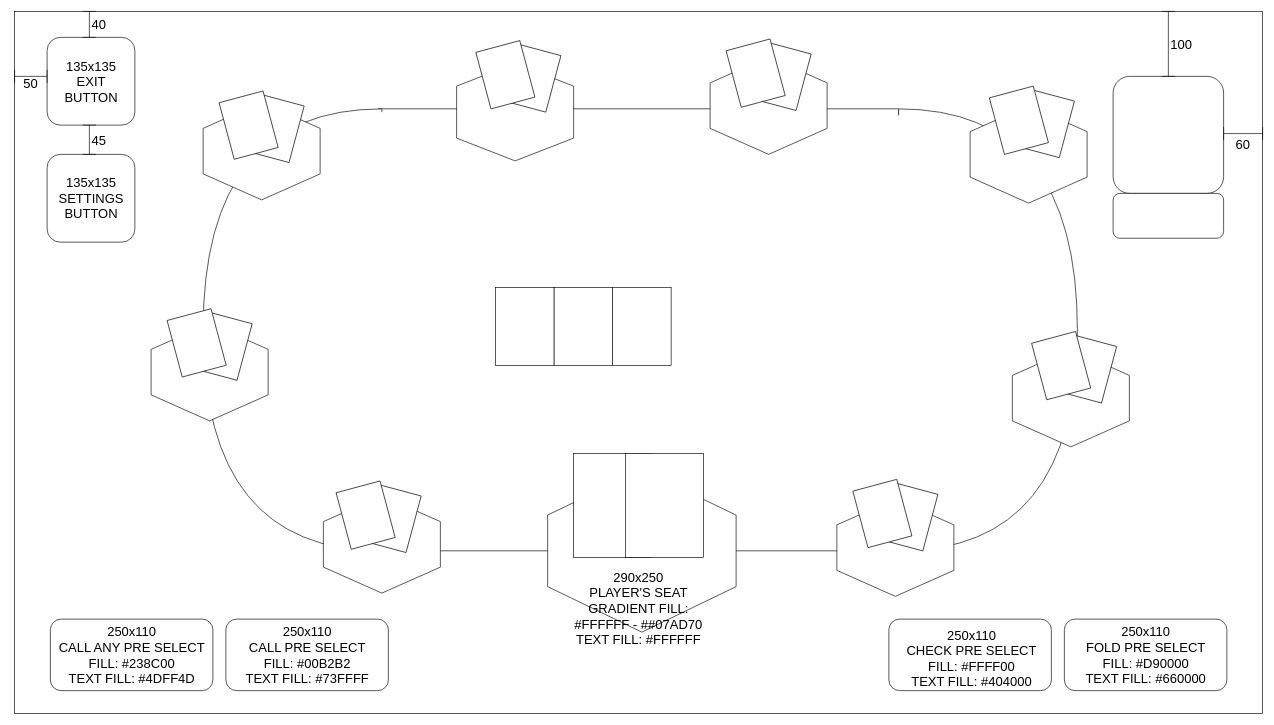
The diagram is 1274 pixels wide and 725 high, and some of its shapes have lost their labels. Each missing label, with the centre of its shape:
"170x180 POKER TUTOR" goes at point (1168, 134).
"170x70 TUTOR EXPAND BUTTON" goes at point (1168, 215).
